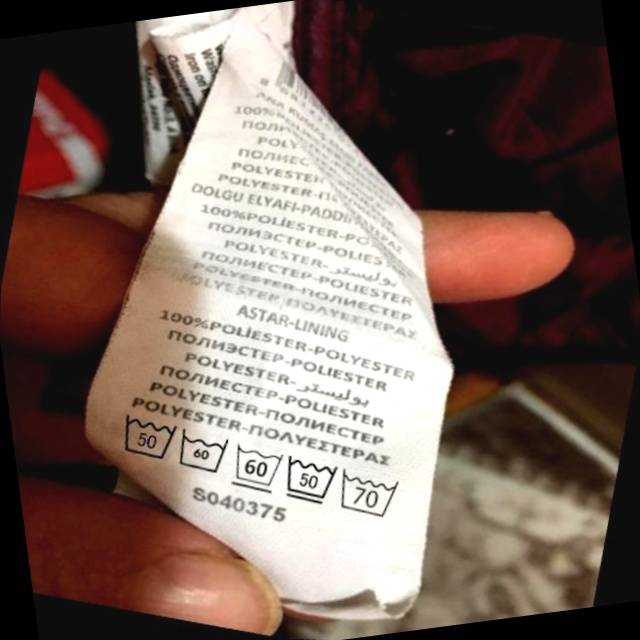50C: (105, 397, 190, 475), (271, 443, 350, 518)
60C: (221, 431, 296, 504), (166, 417, 241, 488)
70C: (328, 457, 413, 531)
